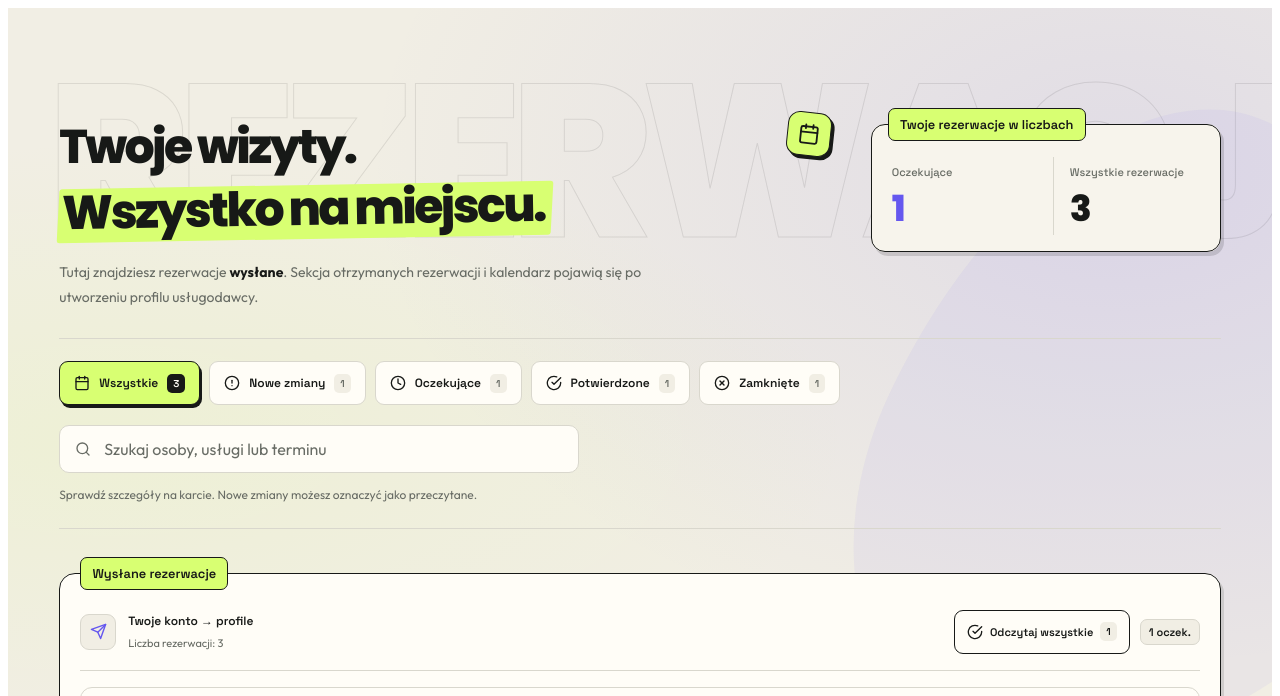
Test: status filters show matching bookings and allow returning to all reservations
Click the button "Potwierdzone 1". click: x=610, y=383
box: [530,361,690,405]
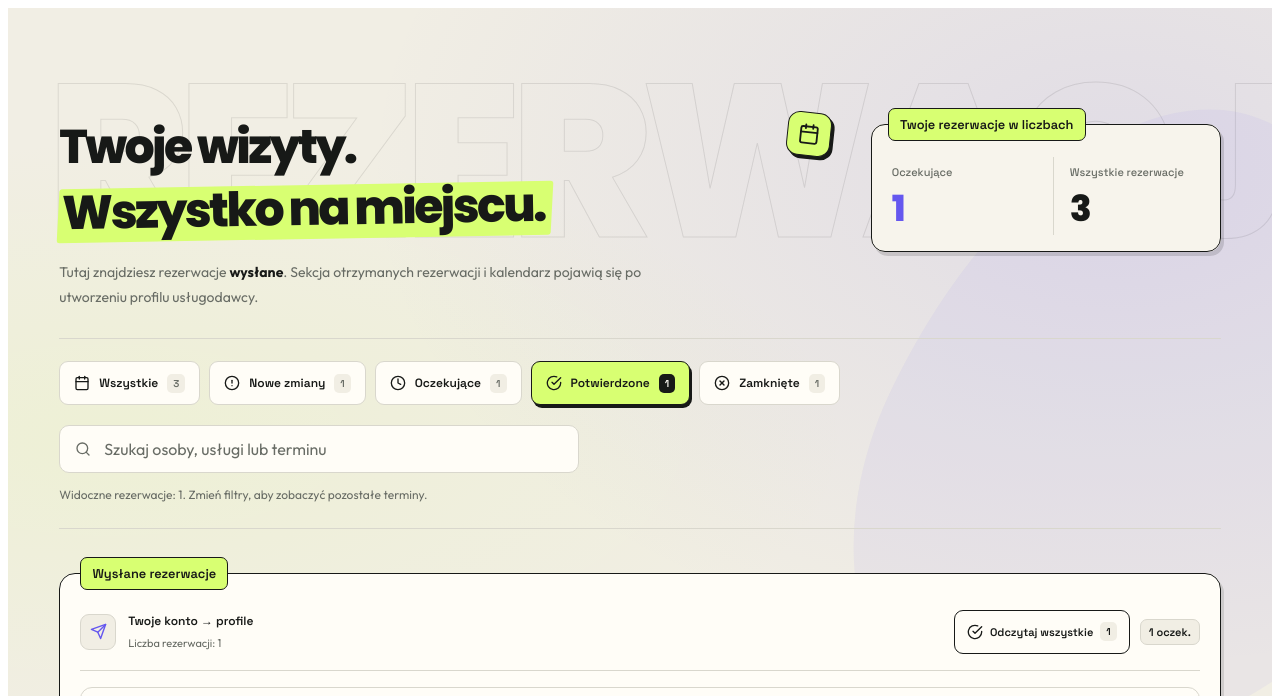
Expected: the text "Salon B" is not shown
Expected: the button "Potwierdzone 1" is pressed, [530,361,690,405]
Click the button "Nowe zmiany 1". click: x=288, y=383
box: [209,361,366,405]
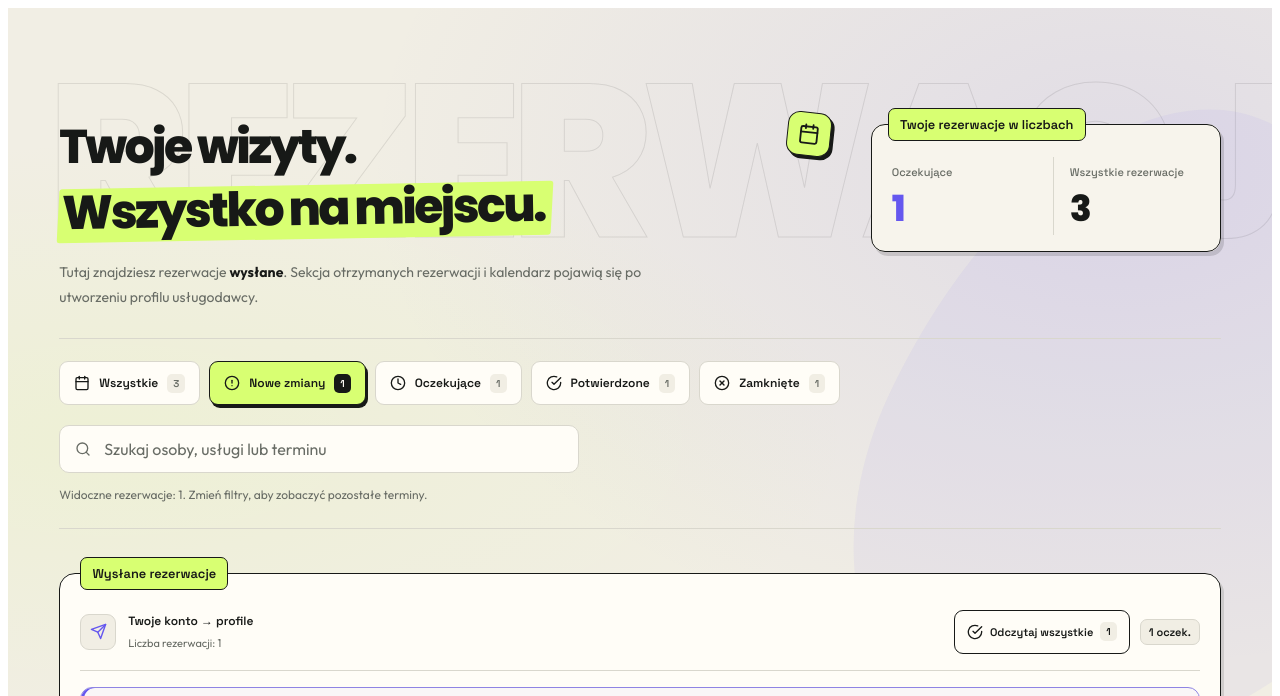
Click the button "Wszystkie 3". click: x=130, y=383
box: [59,361,200,405]
(page scrolled)
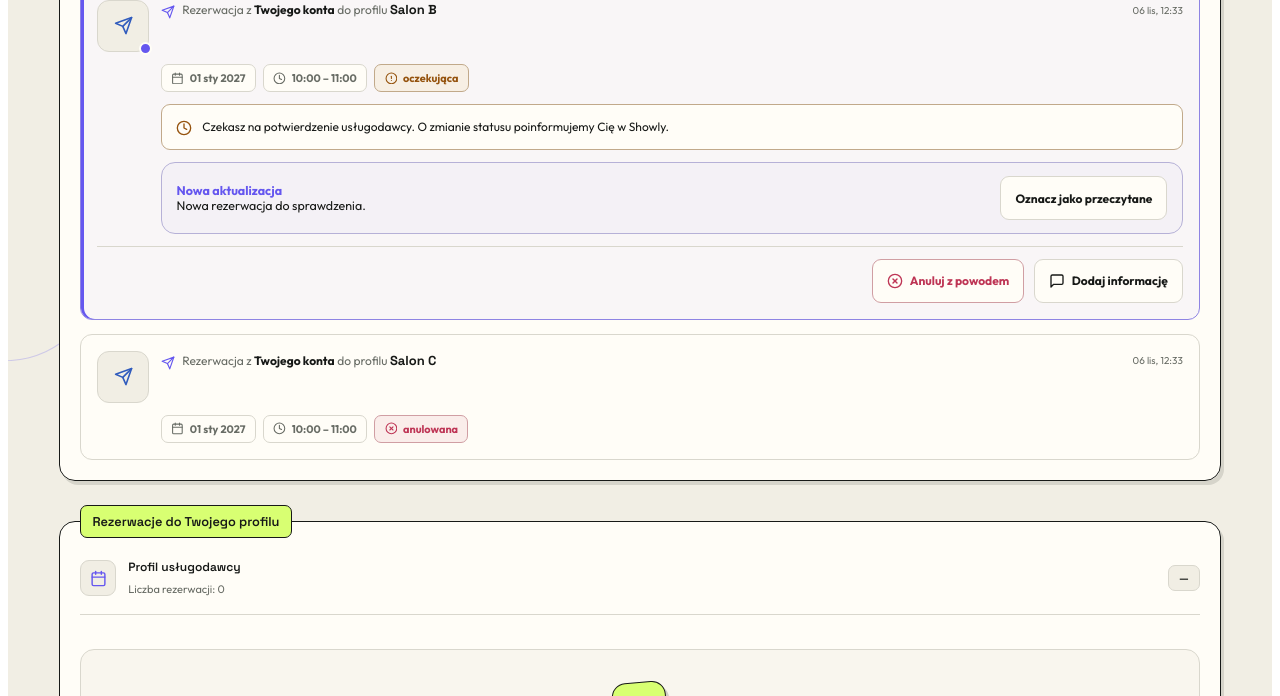
Expected: the text "Salon C" is shown, [390,352,436,369]
